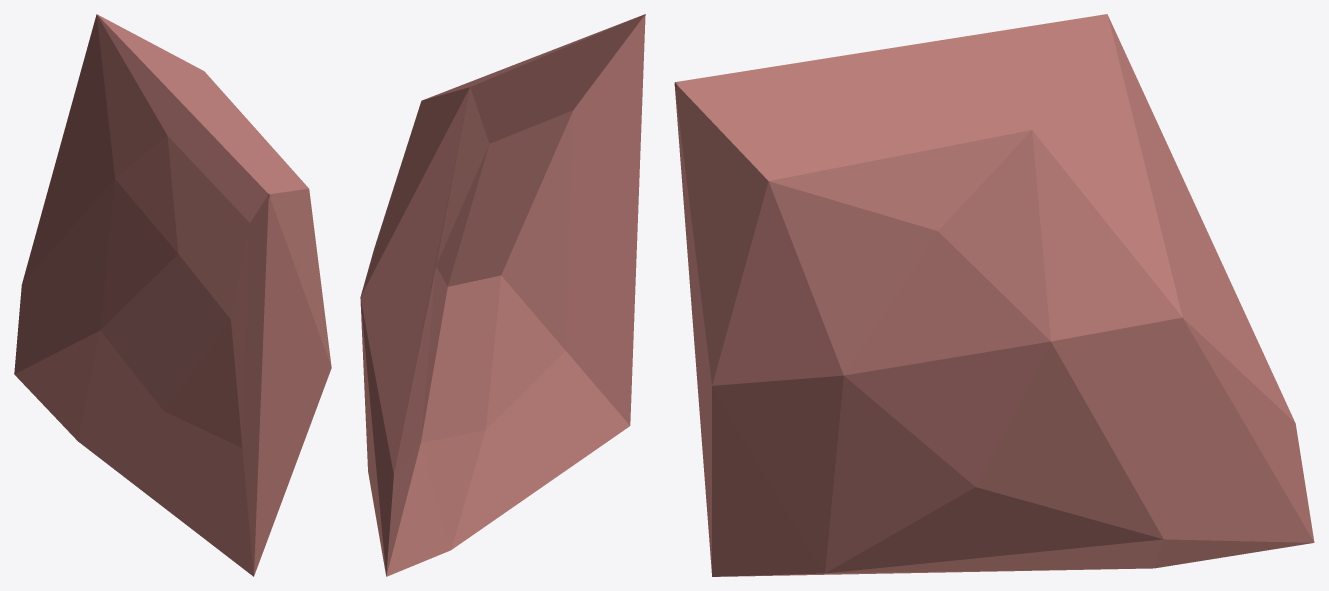
File: Quest4Foam.fbx
3 renders of one model, left to right at view 1: azimuth 30°, elevation 25°; view 2: azimuth 150°, elevation 25°; view 3: azimuth 270°, elevation 25°, orthographic. The views are drawn at different scales.
Visible parts, largest first — view 1: Foam; view 2: Foam; view 3: Foam.
Boxes of the visible parts, left/top/right/bottom form: Foam: left=14, top=14, right=331, bottom=576; Foam: left=360, top=14, right=645, bottom=576; Foam: left=674, top=14, right=1314, bottom=576.
Bounding box in the file's own units: 9 × 33 × 34.
